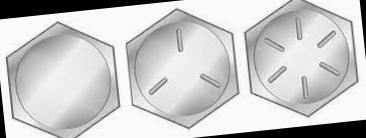screw: (123, 2, 243, 134), (240, 0, 362, 123), (3, 15, 123, 138)
